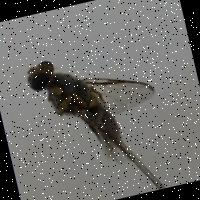Oriental-fruit-fly: (15, 27, 174, 182)
